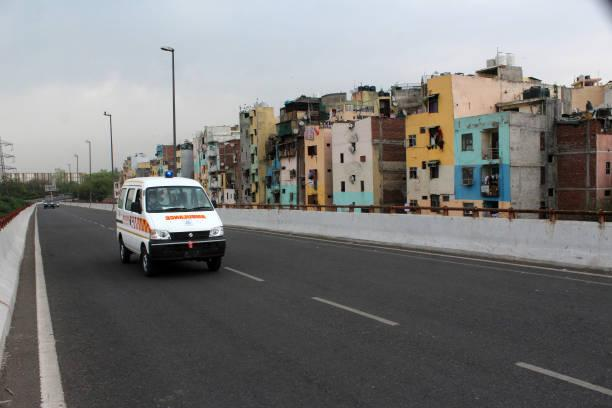AMBULANCE: (112, 171, 226, 280), (117, 209, 155, 238), (160, 212, 209, 223)
